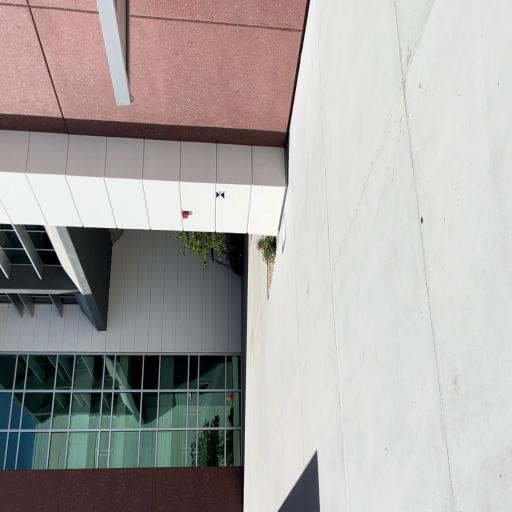target9: (216, 190, 225, 199)
